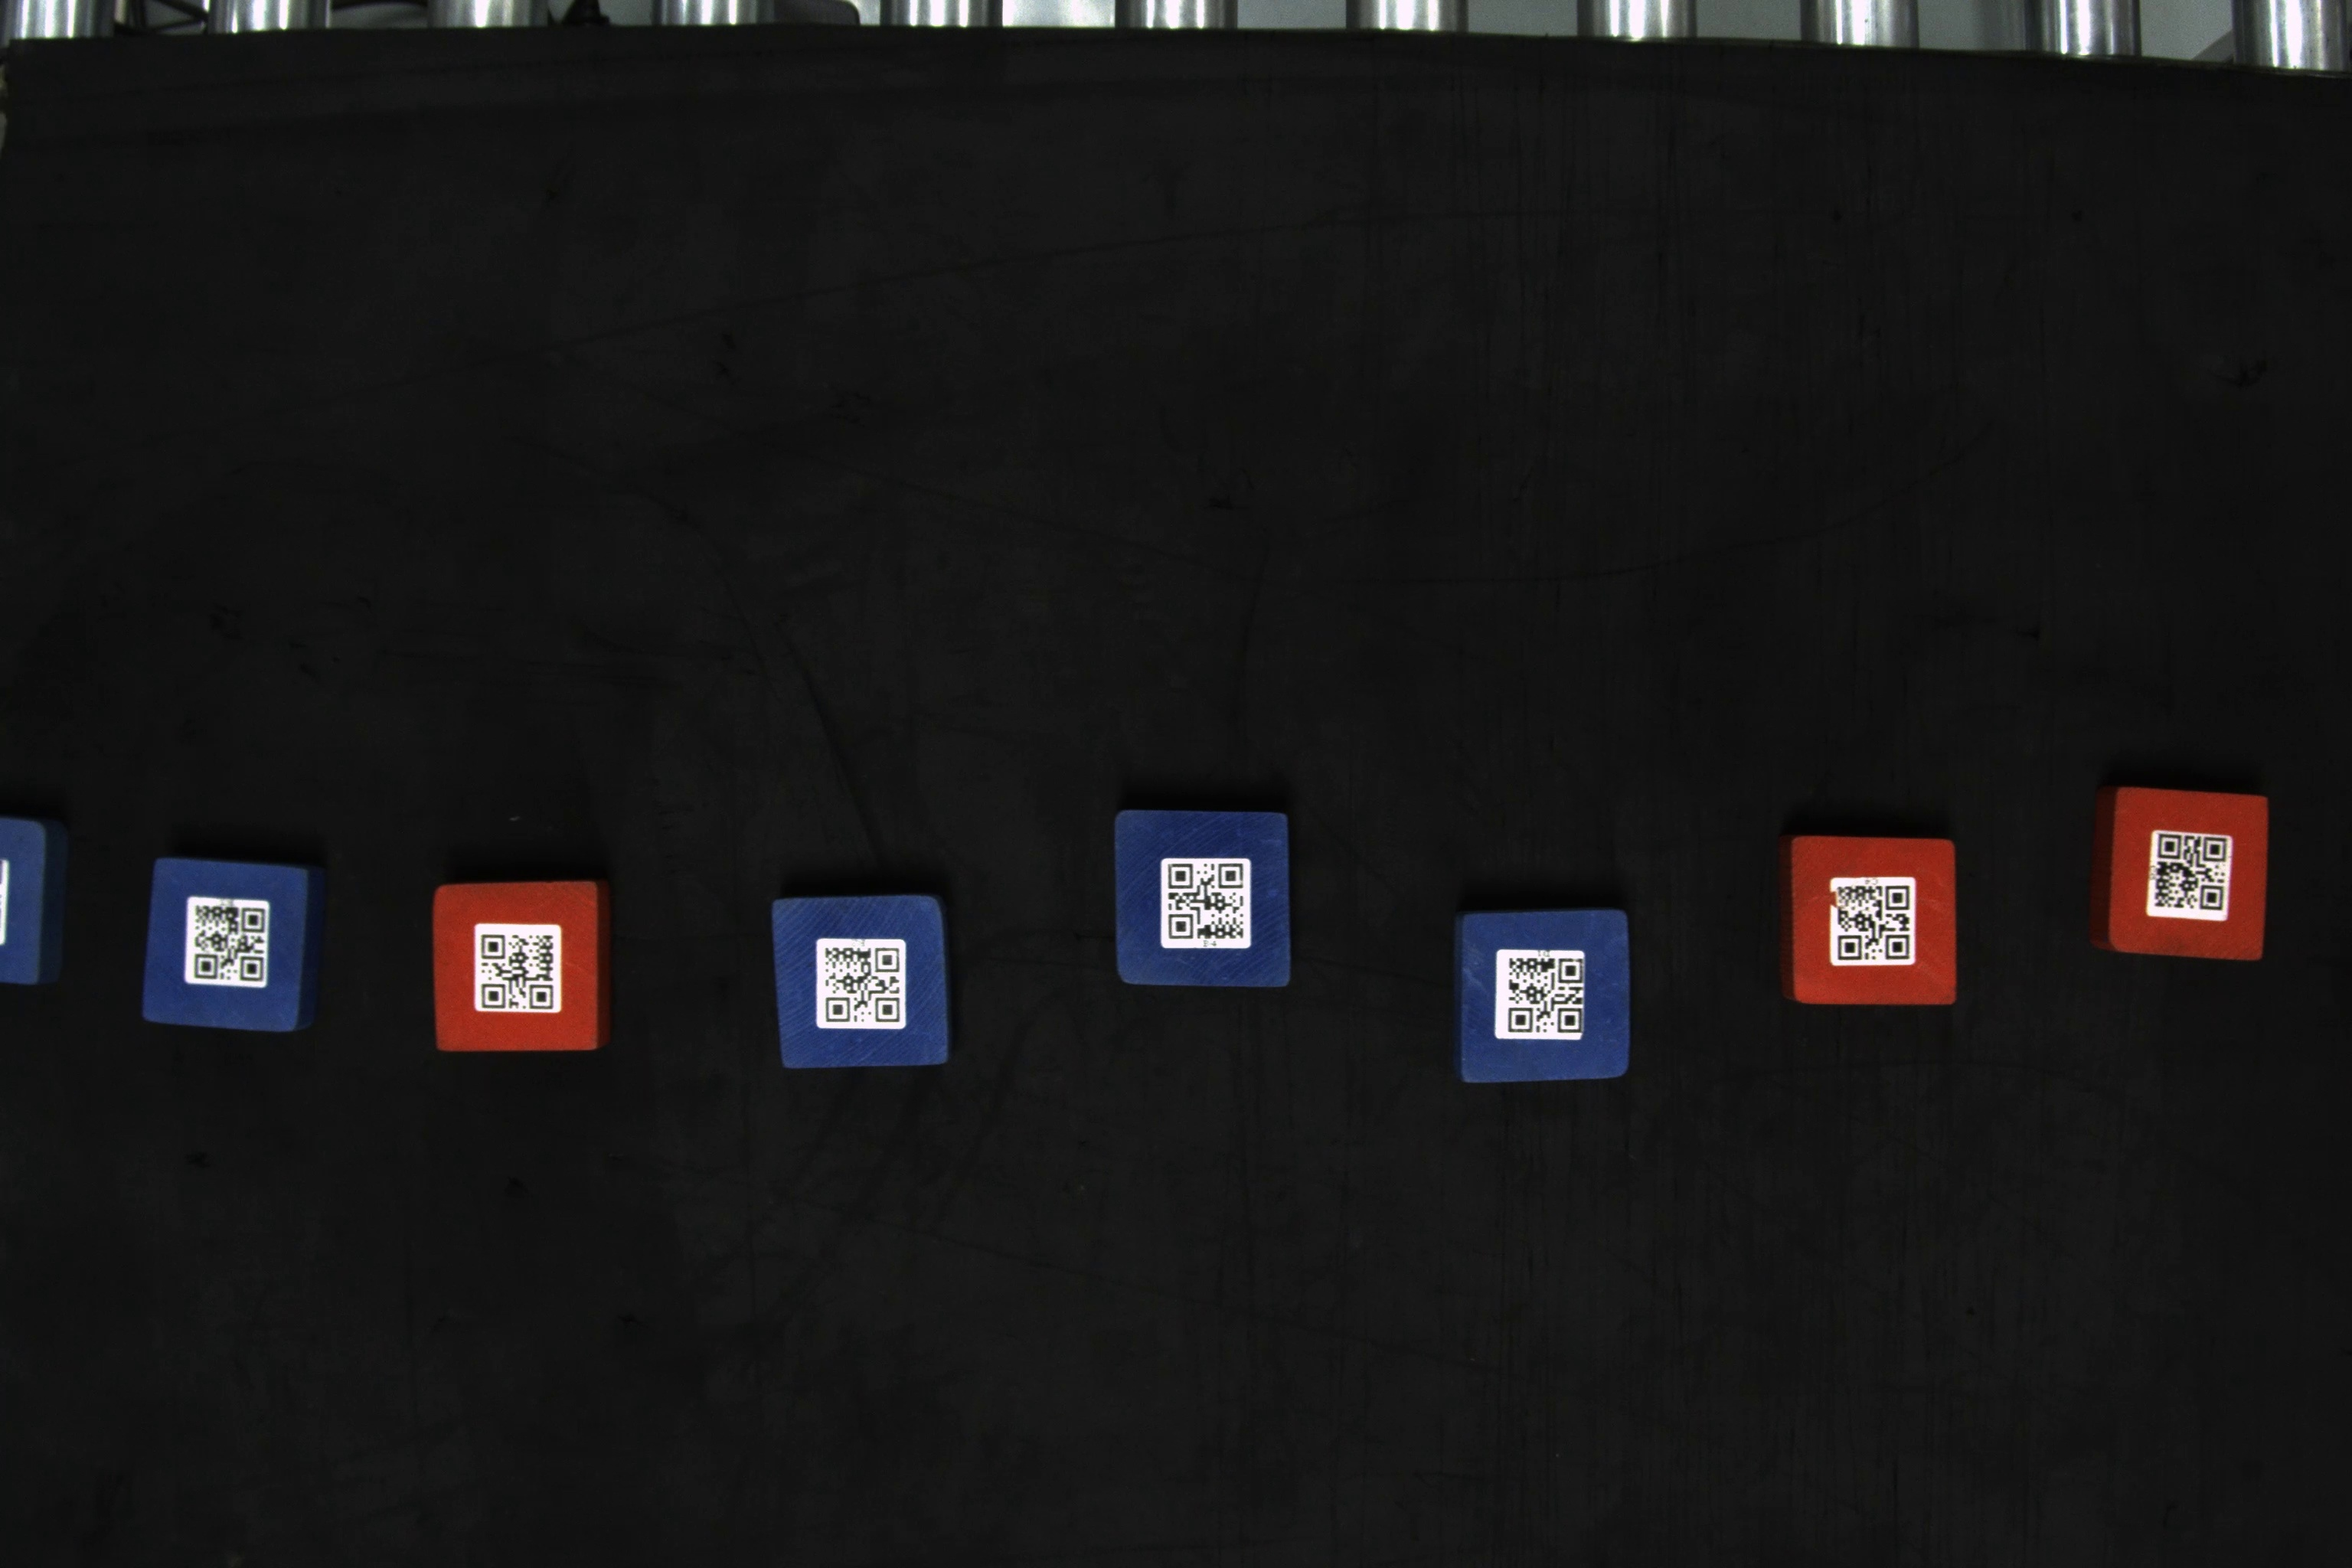wood: (1108, 805, 1298, 1001), (427, 875, 618, 1066), (138, 850, 322, 1041), (1451, 906, 1641, 1088), (2095, 780, 2275, 969), (766, 896, 957, 1074), (1774, 831, 1962, 1011), (2, 810, 73, 994)
